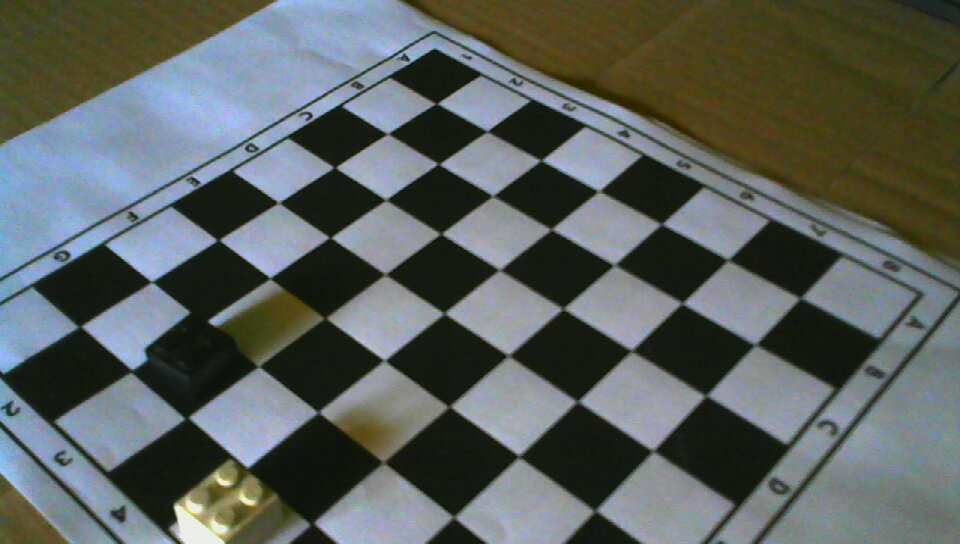bp: (145, 315, 237, 400)
wp: (174, 460, 283, 544)
